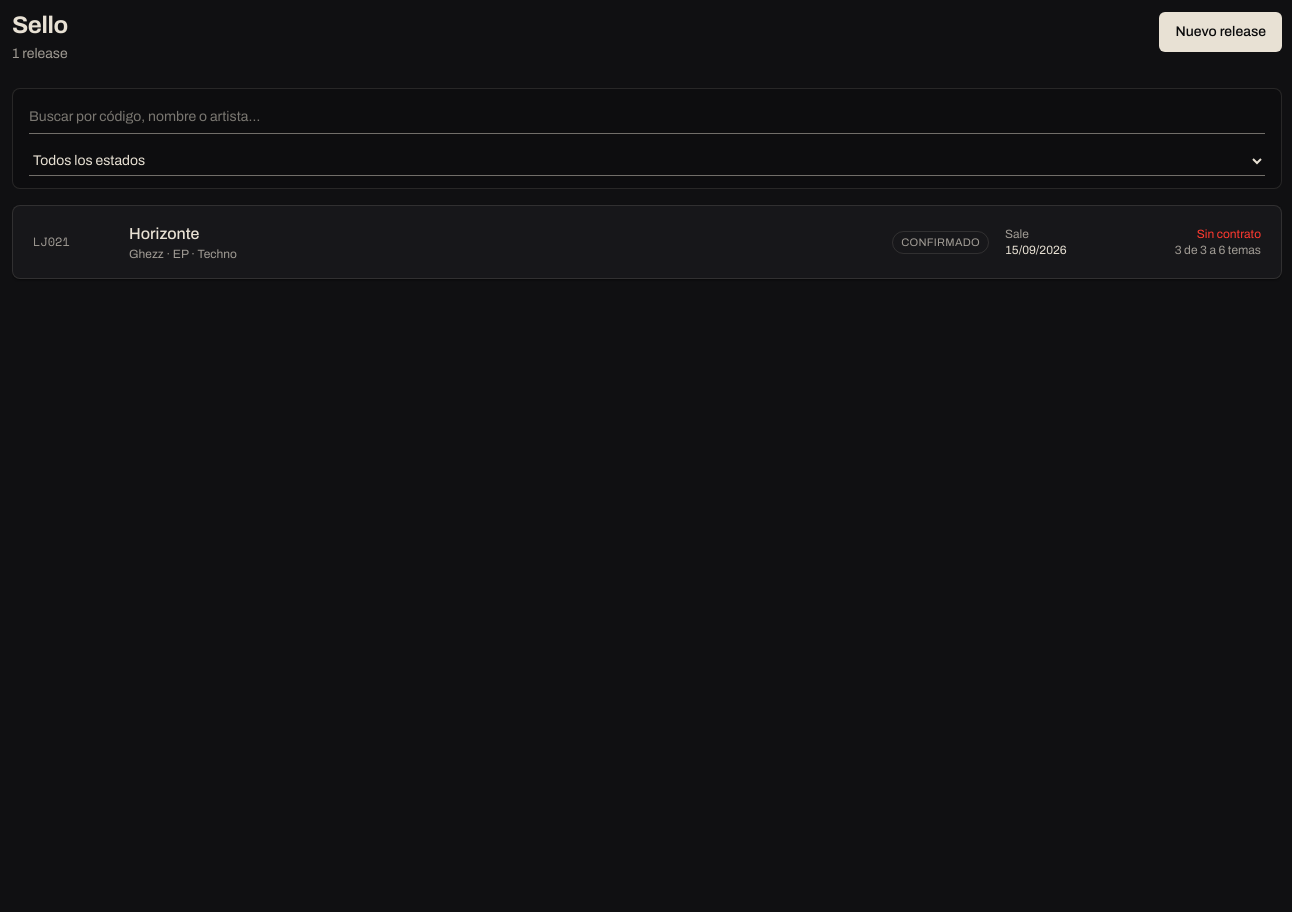
el tracklist › con el tracklist completo deja de avisar
The image size is (1292, 912).
Click the text "Horizonte" at (164, 234), box [129,225,199,242]
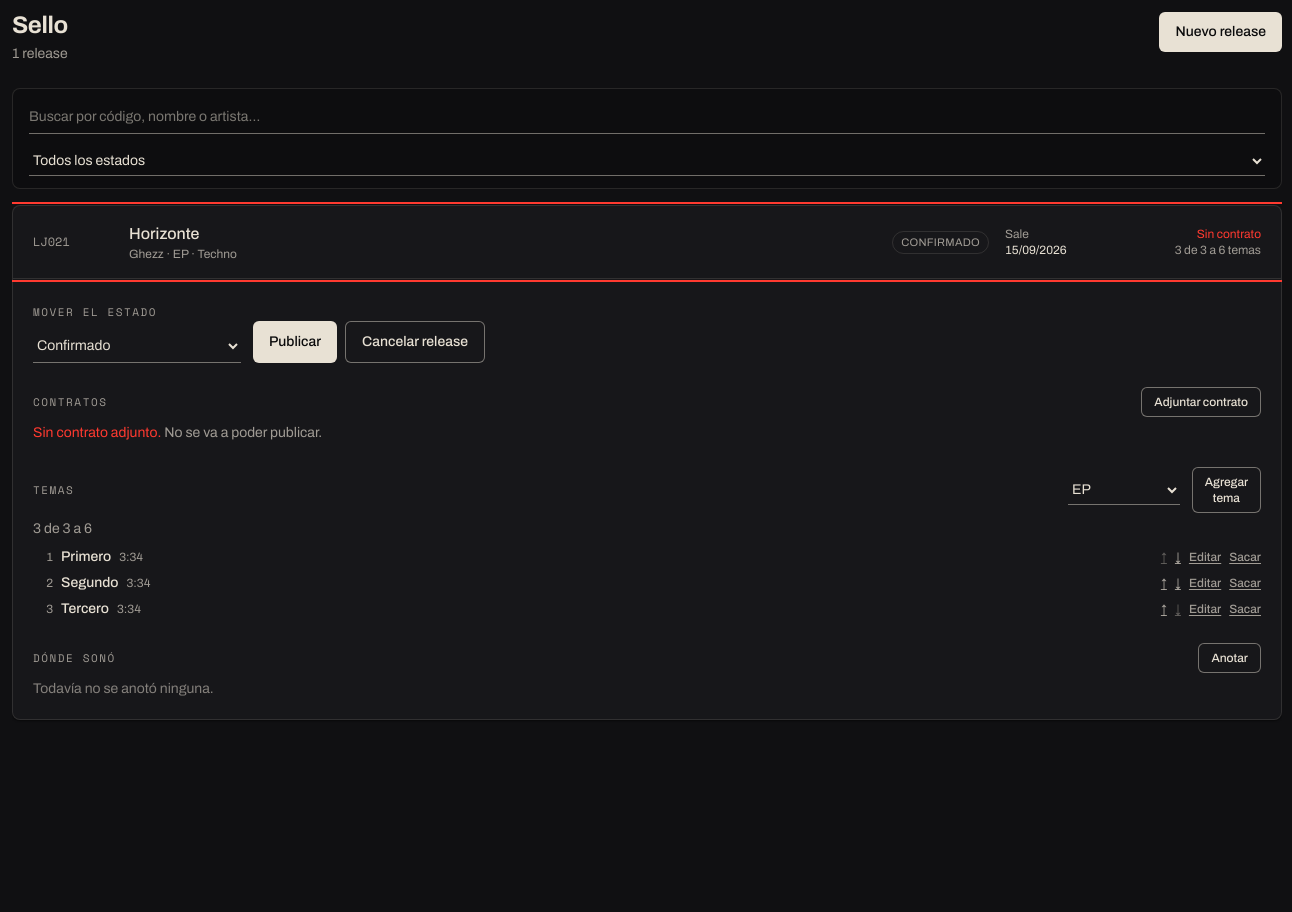
expect the text "3 de 3 a 6" is shown: met, box [33,521,92,536]
